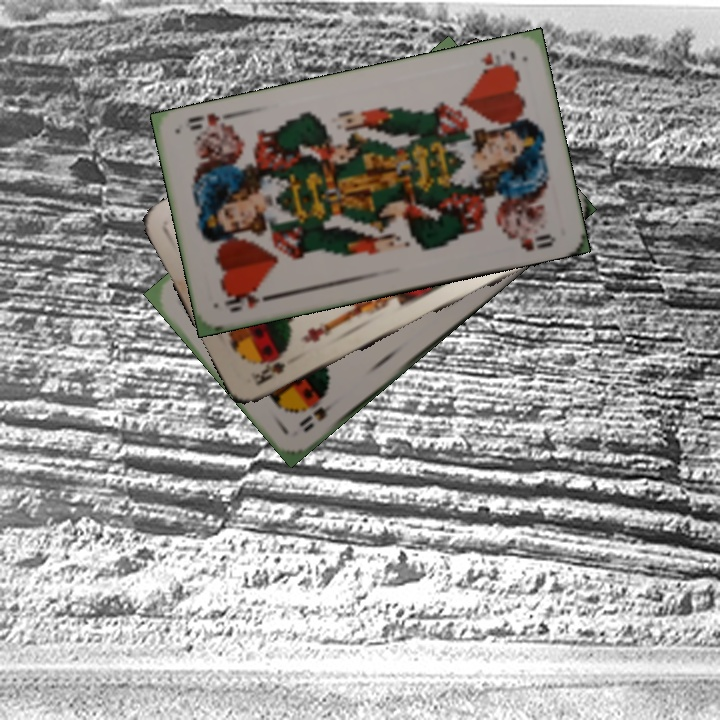HO: (221, 289, 277, 314), (475, 47, 518, 77)
SK: (249, 358, 288, 388)
SO: (294, 394, 342, 435)
